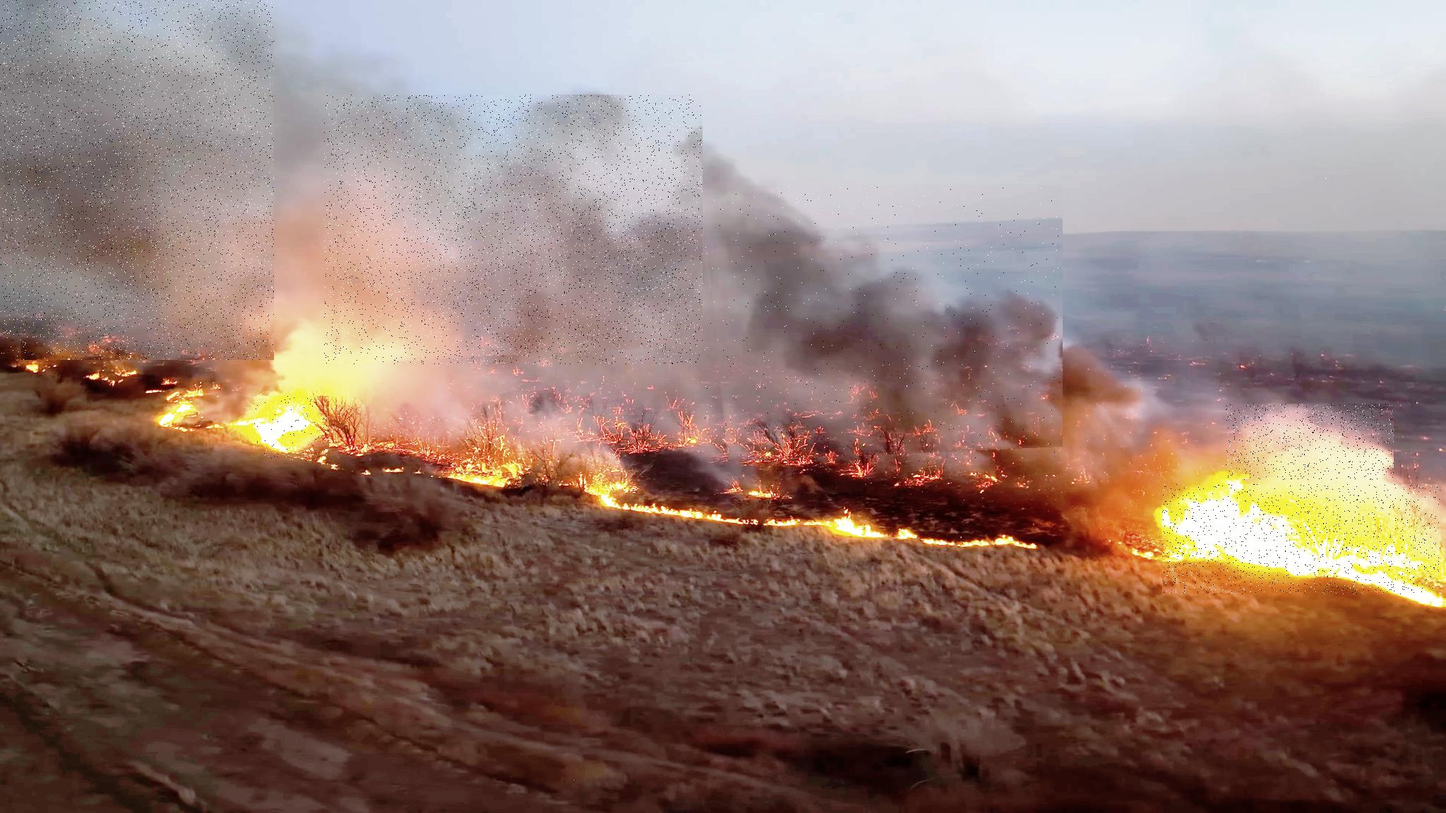fire: (1162, 484, 1440, 594), (253, 396, 329, 461)
smoke: (324, 95, 703, 364), (701, 185, 1063, 462), (0, 0, 274, 360), (1226, 404, 1394, 480)
